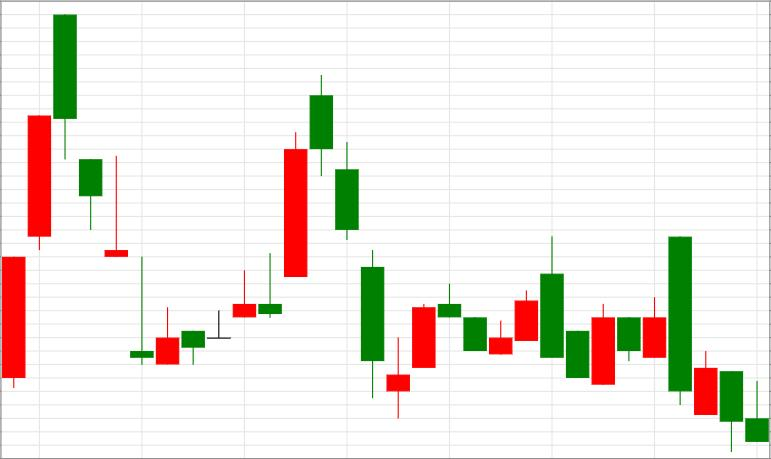morning_star_rise: (309, 74, 436, 418)
three_black_crows_fall: (130, 74, 384, 398)
